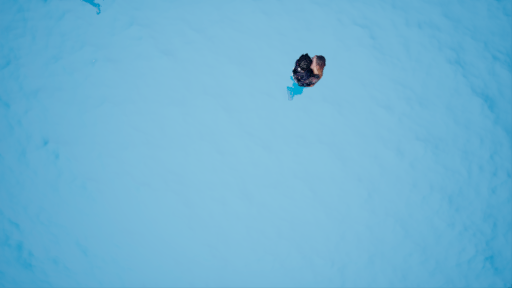person: (284, 48, 331, 99)
